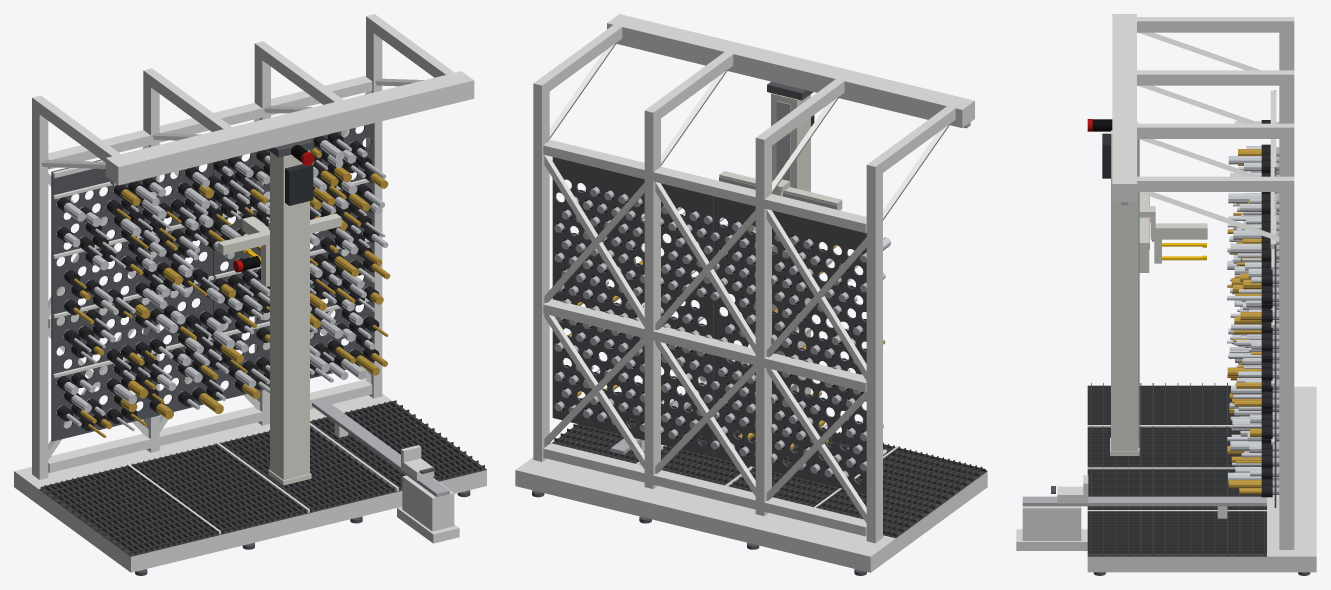
File: tool_wall_magazine_2mod_twin_white.glb
The picture shows the model from 3 angles, left to right: view 1: azimuth 30°, elevation 25°; view 2: azimuth 150°, elevation 25°; view 3: azimuth 270°, elevation 25°; orthographic projection. The views are drawn at different scales.
Parts seen in each view (by area): view 1: twm_frame__truss_white, twm_base__grating, twm_tools__holder, twm_frame__anthracite_lt, twm_tools__tool_bright, mag_loader__struct_grey, twm_base__truss_white, twm_tools__tool_gold, twm_load_station__truss_white, twm_load_station__steel, mag_loader_z__struct_grey, mag_loader__anthracite (+2 smaller); view 2: twm_frame__truss_white, twm_frame__anthracite_lt, twm_base__truss_white, twm_tools__steel, twm_base__grating, twm_tools__holder, mag_loader__struct_grey, mag_loader__steel, mag_loader_z__struct_grey, twm_tools__tool_bright; view 3: twm_frame__truss_white, twm_base__grating, twm_base__truss_white, twm_tools__tool_bright, mag_loader__struct_grey, twm_tools__holder, twm_tools__tool_gold, twm_load_station__truss_white, twm_load_station__steel, twm_tools__steel, mag_loader_b__struct_grey, twm_frame__anthracite_lt (+5 smaller).
Part boxes in pixels (x1,y1,x2,y2): twm_frame__truss_white: [32, 14, 474, 479]; twm_base__grating: [39, 400, 486, 556]; twm_tools__holder: [57, 132, 379, 430]; twm_frame__anthracite_lt: [51, 123, 374, 441]; twm_tools__tool_bright: [64, 139, 388, 431]; mag_loader__struct_grey: [268, 150, 311, 485]; twm_base__truss_white: [14, 394, 486, 572]; twm_tools__tool_gold: [73, 147, 390, 437]; twm_load_station__truss_white: [334, 422, 459, 543]; twm_load_station__steel: [312, 399, 449, 497]; mag_loader_z__struct_grey: [218, 213, 341, 286]; mag_loader__anthracite: [285, 164, 313, 205]; twm_frame__truss_white: [533, 14, 974, 543]; twm_frame__anthracite_lt: [552, 157, 866, 494]; twm_base__truss_white: [515, 444, 987, 572]; twm_tools__steel: [554, 186, 866, 477]; twm_base__grating: [550, 390, 987, 538]; twm_tools__holder: [556, 186, 866, 478]; mag_loader__struct_grey: [771, 93, 810, 394]; mag_loader__steel: [776, 101, 790, 411]; mag_loader_z__struct_grey: [719, 171, 842, 237]; twm_tools__tool_bright: [576, 189, 890, 456]; twm_frame__truss_white: [1112, 14, 1294, 549]; twm_base__grating: [1087, 383, 1266, 556]; twm_base__truss_white: [1087, 386, 1316, 572]; twm_tools__tool_bright: [1227, 121, 1261, 482]; mag_loader__struct_grey: [1110, 122, 1139, 455]; twm_tools__holder: [1261, 120, 1272, 497]; twm_tools__tool_gold: [1227, 149, 1261, 494]; twm_load_station__truss_white: [1016, 506, 1227, 550]; twm_load_station__steel: [1022, 496, 1266, 506]; twm_tools__steel: [1272, 122, 1279, 494]; mag_loader_b__struct_grey: [1139, 206, 1207, 239]; twm_frame__anthracite_lt: [1274, 90, 1276, 507].
Size of the model in its own units: 3.25 by 3.54 by 2.43.
